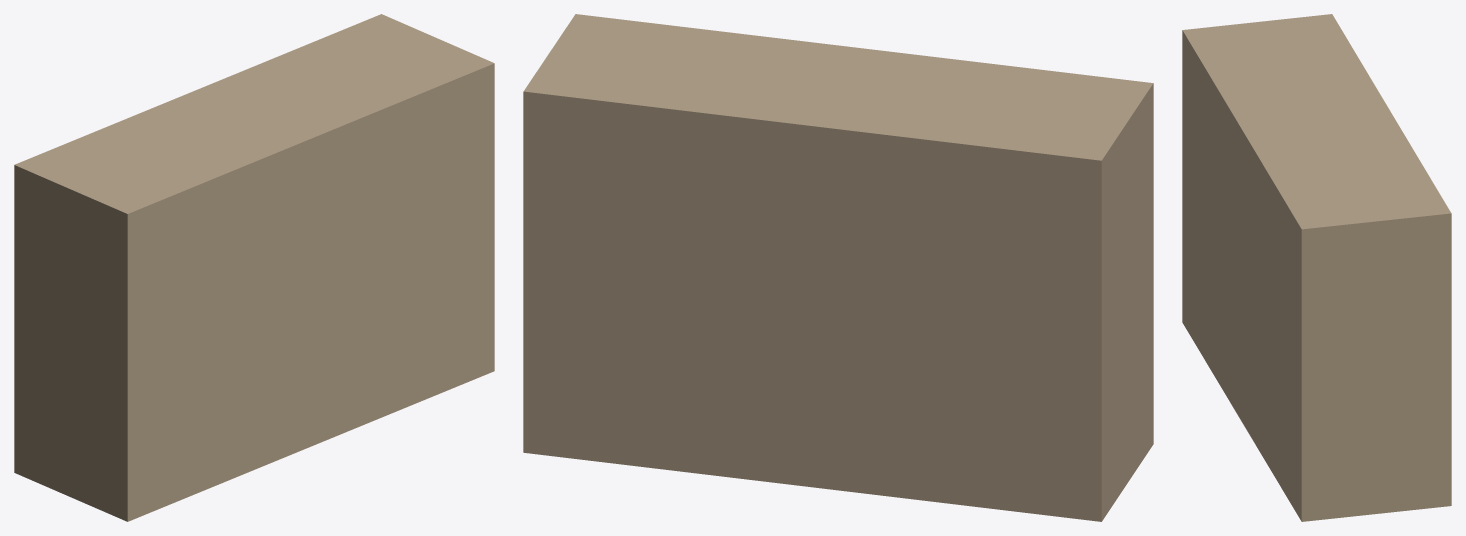
File: bld_99872212.dae
3 renders of one model, left to right at view 1: azimuth 30°, elevation 25°; view 2: azimuth 150°, elevation 25°; view 3: azimuth 270°, elevation 25°, orthographic. The views are drawn at different scales.
Visible parts, largest first — view 1: bld_99872212; view 2: bld_99872212; view 3: bld_99872212.
Part boxes in pixels (x1,y1,x2,y2): bld_99872212: [14, 14, 494, 521]; bld_99872212: [523, 14, 1153, 521]; bld_99872212: [1182, 14, 1451, 521].
Bounding box in the file's own units: 12.63 × 6.67 × 8.
